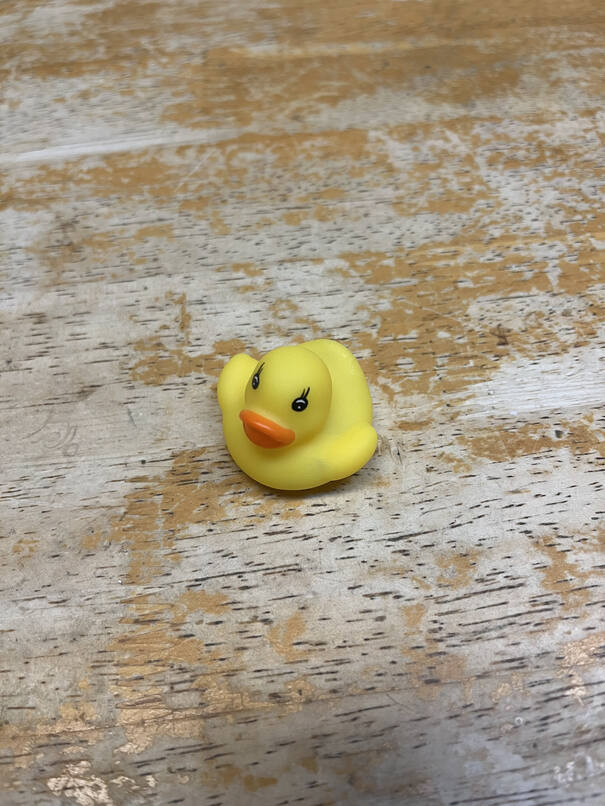duck_regular: (217, 337, 380, 488)
